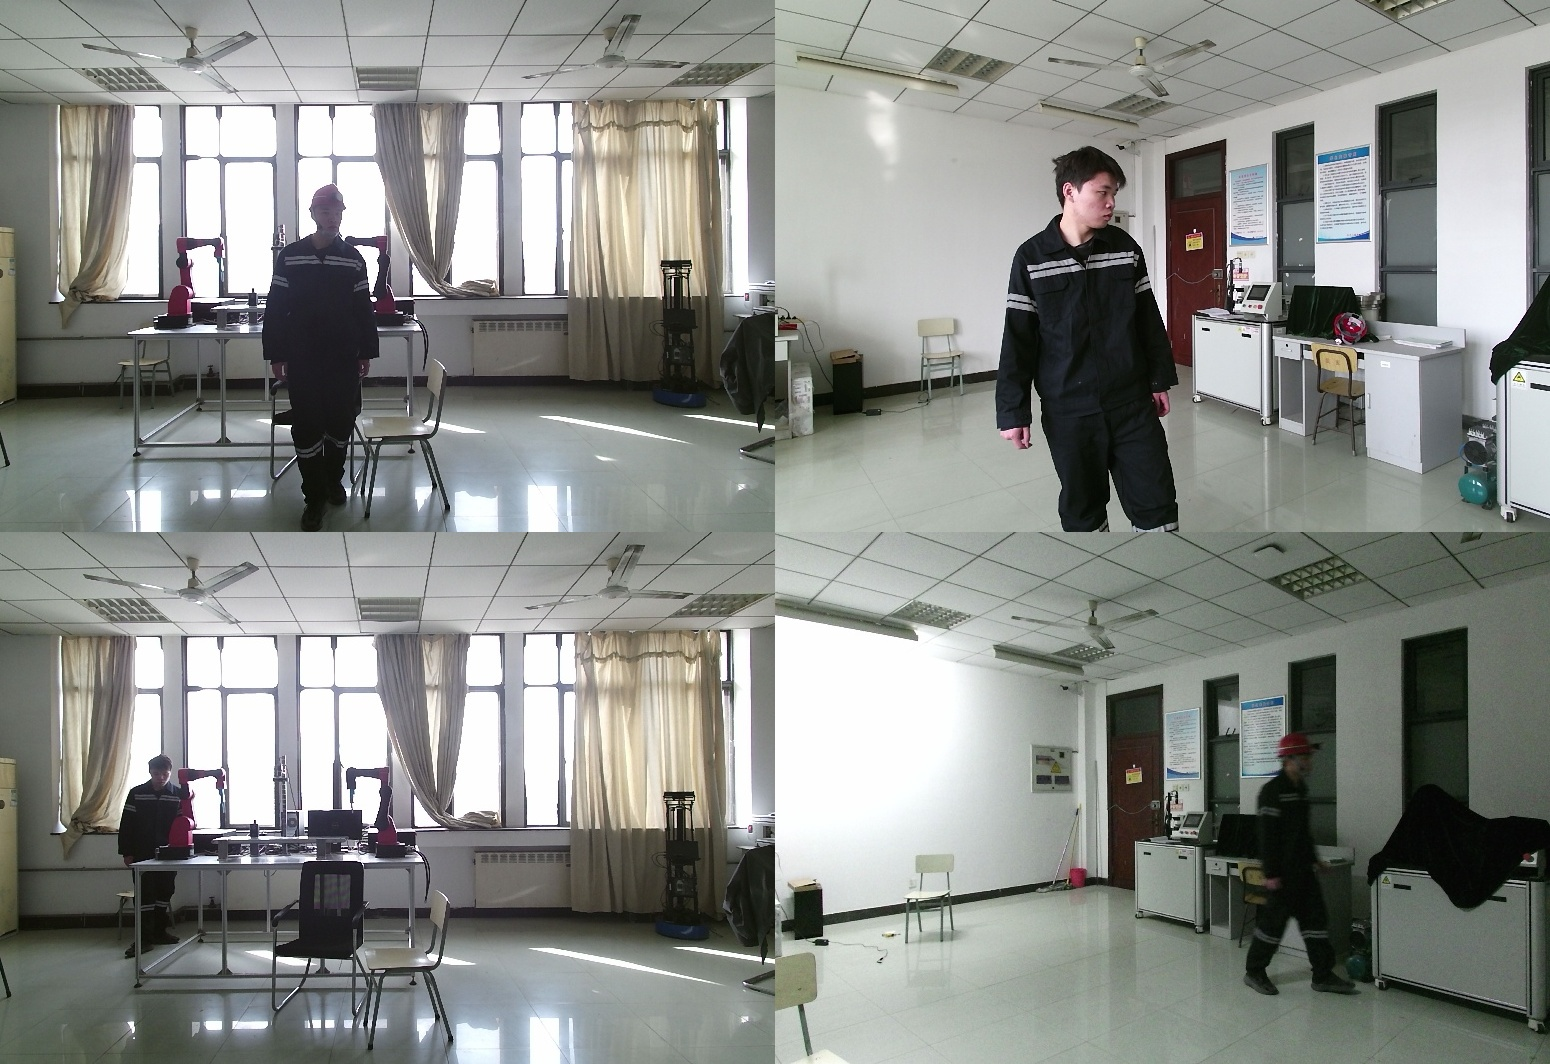person: (999, 146, 1205, 532), (262, 184, 387, 532), (1239, 734, 1361, 995), (116, 755, 188, 960)
